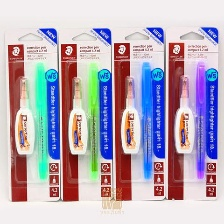book: (2, 26, 62, 203), (55, 25, 113, 205), (108, 25, 166, 201), (164, 25, 220, 202)
correction_fluid: (117, 75, 142, 157), (11, 74, 36, 156), (172, 75, 196, 156), (66, 76, 88, 155)
